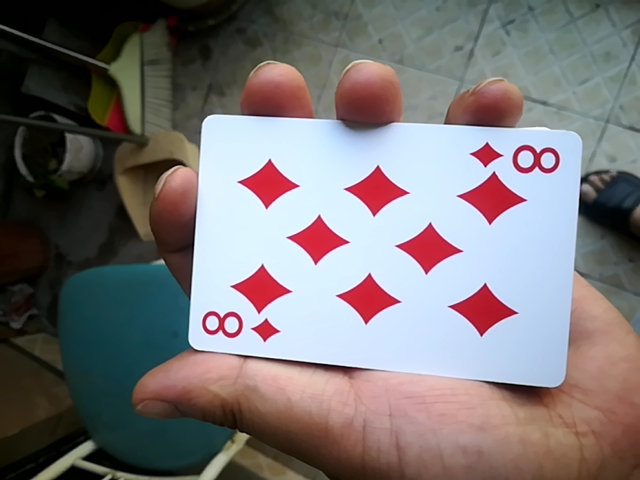fk 8: (183, 108, 590, 386)
